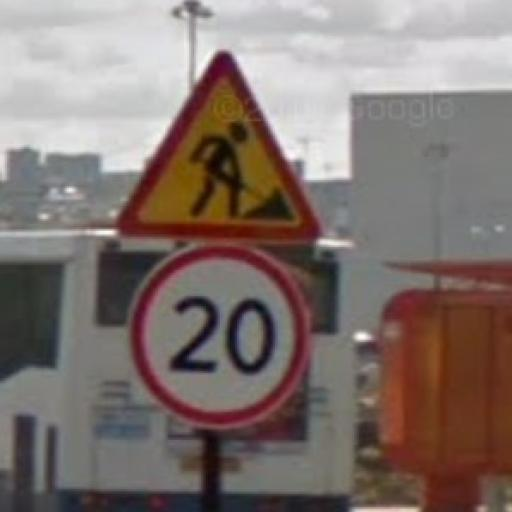traffic_sign: (114, 52, 324, 245), (128, 245, 312, 431)
